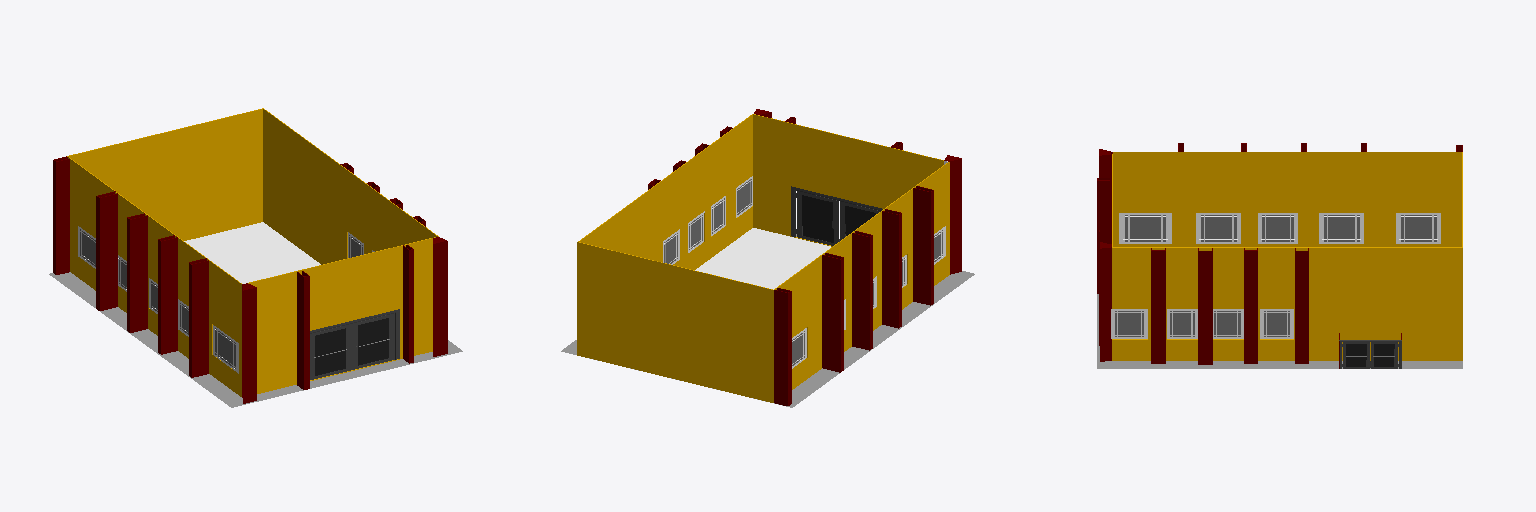
The model's file is CGTI.obj.
3 views of the same model, side by side, from view 1: azimuth 30°, elevation 25°; view 2: azimuth 150°, elevation 25°; view 3: azimuth 270°, elevation 25° (orthographic).
Visible parts, largest first — view 1: wall_1_5, wall_2_11, wall_3_16, room_60_356, ground_1, wall_10_58, wall_49_292, wall_57_340, wall_39_232, wall_42_250, wall_33_196, wall_36_214 (+14 smaller); view 2: wall_1_4, wall_3_17, wall_2_11, room_60_356, wall_57_340, ground_1, wall_44_262, wall_35_208, wall_41_244, wall_38_226, wall_49_292, wall_47_280 (+7 smaller); view 3: wall_2_10, wall_57_341, wall_49_293, wall_51_305, wall_53_317, wall_55_329, ground_1, wall_19_113, wall_16_95, wall_22_131, wall_25_149, wall_14_83 (+14 smaller).
Part boxes in pixels (left/top/right/bottom): wall_1_5: left=68, top=109, right=262, bottom=240; wall_2_11: left=263, top=109, right=437, bottom=264; wall_3_16: left=287, top=237, right=435, bottom=386; room_60_356: left=184, top=222, right=320, bottom=283; ground_1: left=49, top=272, right=462, bottom=407; wall_10_58: left=248, top=274, right=286, bottom=393; wall_49_292: left=209, top=261, right=241, bottom=396; wall_57_340: left=70, top=159, right=113, bottom=290; wall_39_232: left=130, top=216, right=147, bottom=332; wall_42_250: left=100, top=194, right=117, bottom=310; wall_33_196: left=192, top=261, right=208, bottom=377; wall_36_214: left=161, top=238, right=177, bottom=354; wall_1_4: left=577, top=242, right=772, bottom=402; wall_3_17: left=753, top=114, right=904, bottom=246; wall_2_11: left=579, top=115, right=752, bottom=269; room_60_356: left=695, top=228, right=830, bottom=289; wall_57_340: left=778, top=256, right=821, bottom=389; ground_1: left=561, top=234, right=974, bottom=407; wall_44_262: left=822, top=255, right=840, bottom=372; wall_35_208: left=913, top=188, right=930, bottom=305; wall_41_244: left=852, top=233, right=869, bottom=350; wall_38_226: left=882, top=211, right=898, bottom=328; wall_49_292: left=917, top=162, right=949, bottom=285; wall_47_280: left=774, top=290, right=787, bottom=405; wall_2_10: left=1112, top=248, right=1462, bottom=360; wall_57_341: left=1367, top=152, right=1455, bottom=246; wall_49_293: left=1113, top=152, right=1177, bottom=246; wall_51_305: left=1184, top=152, right=1240, bottom=246; wall_53_317: left=1247, top=152, right=1300, bottom=246; wall_55_329: left=1307, top=152, right=1360, bottom=246; ground_1: left=1097, top=294, right=1462, bottom=368; wall_19_113: left=1198, top=251, right=1212, bottom=364; wall_16_95: left=1151, top=251, right=1165, bottom=363; wall_22_131: left=1244, top=251, right=1257, bottom=363; wall_25_149: left=1295, top=251, right=1308, bottom=363; wall_14_83: left=1100, top=247, right=1111, bottom=361.
Bounding box in the file's own units: 2144 × 1000 × 2932.